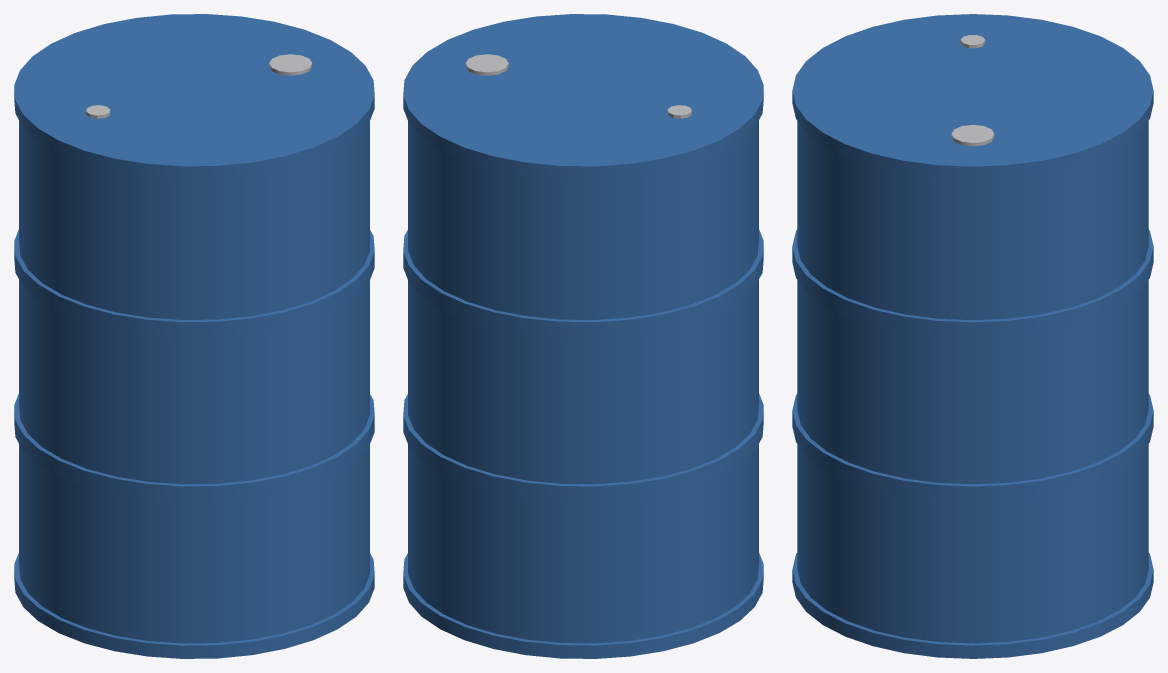
File: SM_Drum200L.fbx
3 views of the same model, side by side, from view 1: azimuth 30°, elevation 25°; view 2: azimuth 150°, elevation 25°; view 3: azimuth 270°, elevation 25° (orthographic).
Parts seen in each view (by area): view 1: DR_Drum200L; view 2: DR_Drum200L; view 3: DR_Drum200L.
Boxes of the visible parts, x1,y1,x2,y2 form: DR_Drum200L: [14, 14, 374, 658]; DR_Drum200L: [403, 14, 763, 658]; DR_Drum200L: [792, 14, 1153, 658].
Size of the model in its own units: 58.5 by 88.6 by 58.5.
